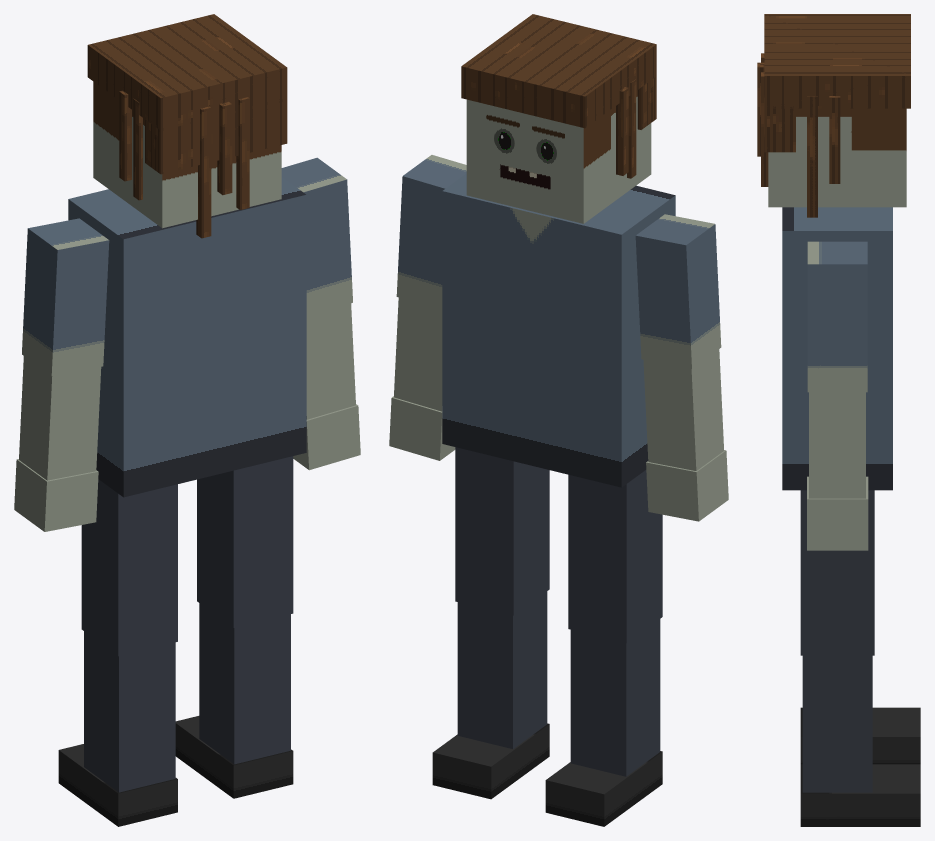
Rendered from hair_dreadlocks.glb.
The picture shows the model from 3 angles, left to right: view 1: azimuth 30°, elevation 25°; view 2: azimuth 150°, elevation 25°; view 3: azimuth 270°, elevation 25°; orthographic projection. The views are drawn at different scales.
Visible parts, largest first — view 1: block_torso, block_hair-cap, block_thigh.L, block_thigh.R, block_shin.L, block_shin.R, block_upper_arm.L, block_head, block_forearm.L, block_upper_arm.R, block_hair-dread (×5), block_forearm.R (+5 smaller); view 2: block_torso, block_head, block_hair-cap, block_thigh.L, block_thigh.R, block_shin.L, block_shin.R, block_upper_arm.L, block_forearm.L, block_upper_arm.R, block_foot.R, block_foot.L (+5 smaller); view 3: block_torso, block_hair-cap, block_head, block_shin.R, block_upper_arm.R, block_thigh.R, block_forearm.R, block_foot.R, block_hair-dread (×5), block_hand.R, block_foot.L, block_hair-back.
Part boxes in pixels (x1,y1,x2,y2): block_torso: [68, 177, 306, 497]; block_hair-cap: [87, 14, 287, 130]; block_thigh.L: [81, 479, 177, 656]; block_thigh.R: [197, 456, 293, 627]; block_shin.L: [84, 631, 175, 792]; block_shin.R: [199, 603, 290, 764]; block_upper_arm.L: [22, 218, 109, 375]; block_head: [93, 81, 281, 228]; block_forearm.L: [19, 356, 101, 480]; block_upper_arm.R: [281, 157, 352, 316]; block_hair-dread (×5): [119, 90, 249, 238]; block_forearm.R: [306, 303, 355, 419]; block_torso: [442, 173, 675, 487]; block_head: [466, 90, 651, 223]; block_hair-cap: [461, 14, 656, 128]; block_thigh.L: [568, 470, 662, 643]; block_thigh.R: [455, 447, 549, 615]; block_shin.L: [570, 619, 660, 776]; block_shin.R: [457, 591, 547, 748]; block_upper_arm.L: [635, 214, 721, 368]; block_forearm.L: [643, 349, 723, 470]; block_upper_arm.R: [396, 155, 466, 309]; block_foot.R: [432, 723, 549, 799]; block_foot.L: [545, 751, 662, 826]; block_torso: [782, 207, 892, 490]; block_hair-cap: [764, 14, 910, 108]; block_head: [768, 108, 906, 207]; block_shin.R: [802, 655, 872, 792]; block_upper_arm.R: [807, 241, 867, 392]; block_thigh.R: [800, 490, 874, 655]; block_forearm.R: [809, 392, 865, 498]; block_foot.R: [800, 764, 920, 826]; block_hair-dread (×5): [757, 62, 840, 217]; block_hand.R: [807, 476, 868, 550]; block_foot.L: [800, 707, 920, 764]; block_hair-back: [764, 106, 795, 152].
Bounding box in the file's own units: 0.7948 × 1.77 × 0.354.
Materials: 1 (1 with a texture image).
